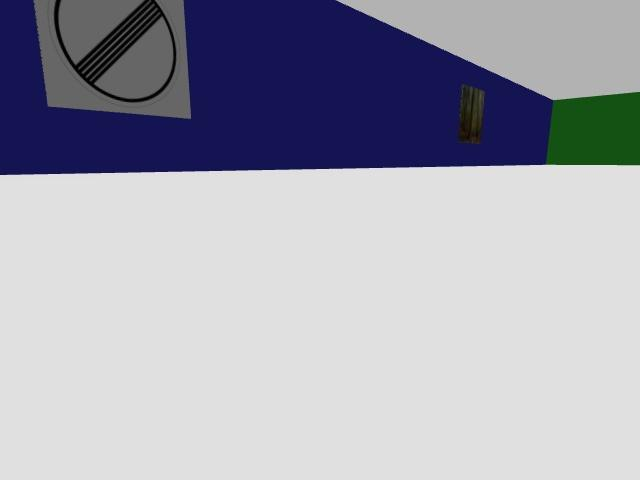fastsign: (34, 0, 189, 118)
